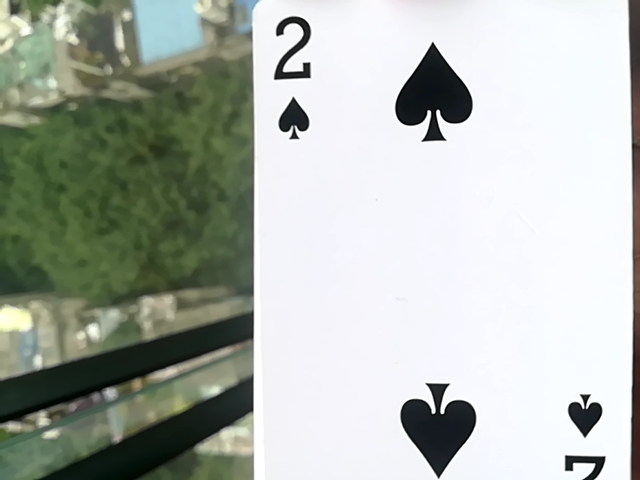ht 2: (233, 6, 634, 476)
